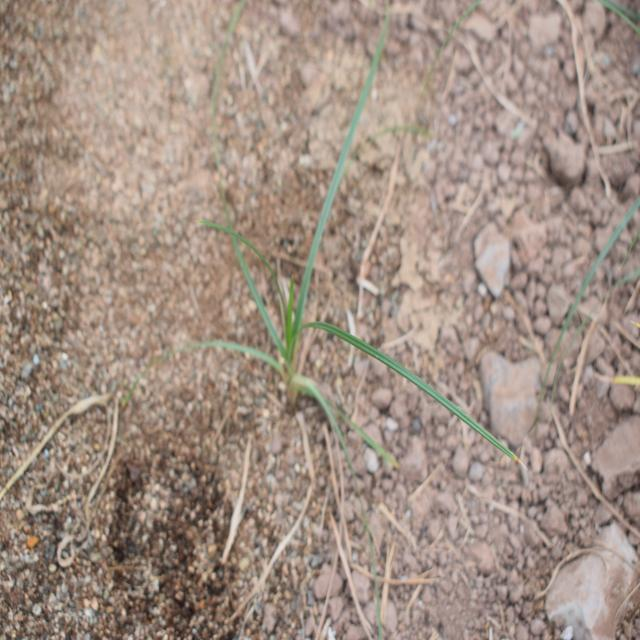sedge: (200, 44, 492, 510)
